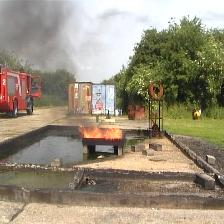fire: (81, 122, 125, 140)
smoke: (14, 7, 80, 63)
